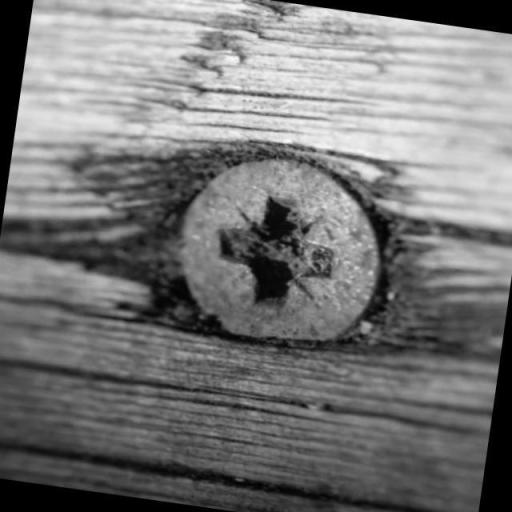Pozidriv: (168, 150, 386, 372)
